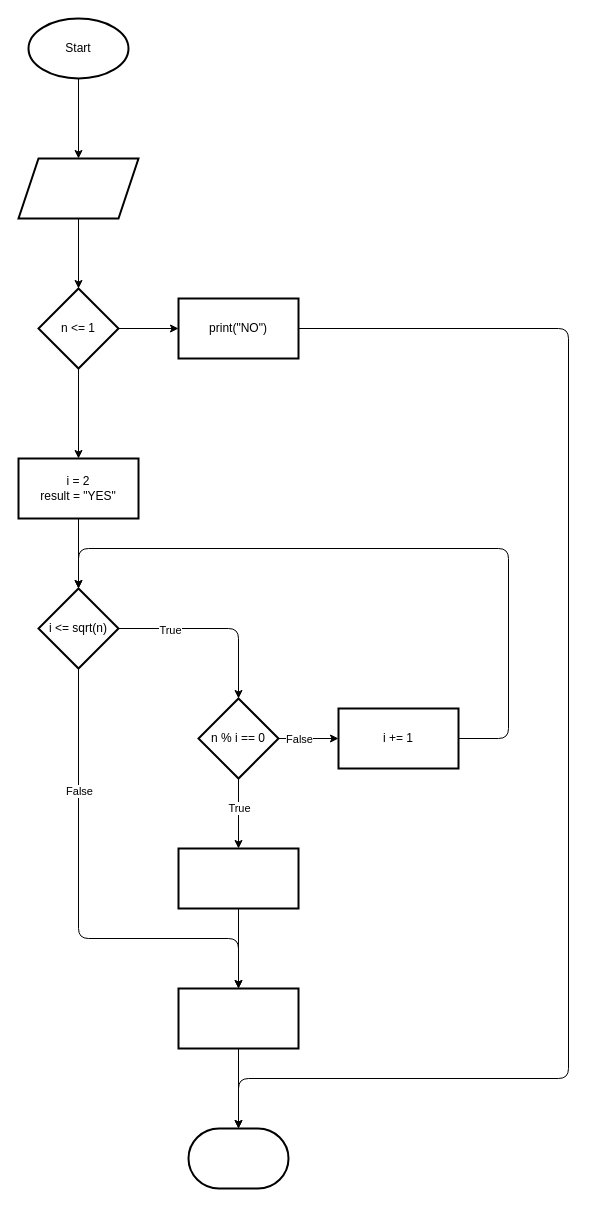
Some shapes in this 594 by 1206 pixel diagram are drawn without their labels. The shapes that lost their labels are listed below. From the top down, each one's box as (x1, y1, x2, y2) in pixels, then its label:
(17, 157, 139, 219): INPUT n
(177, 847, 299, 909): result = "NO"
(177, 987, 299, 1049): print(result)
(187, 1127, 289, 1189): End
